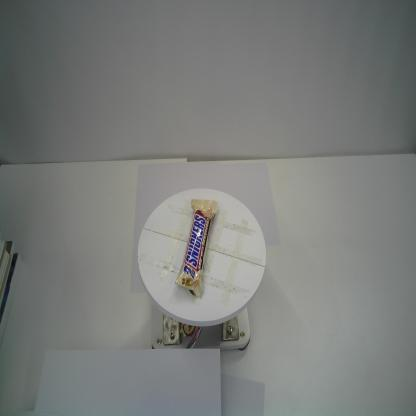Chocolate: (174, 198, 218, 300)
